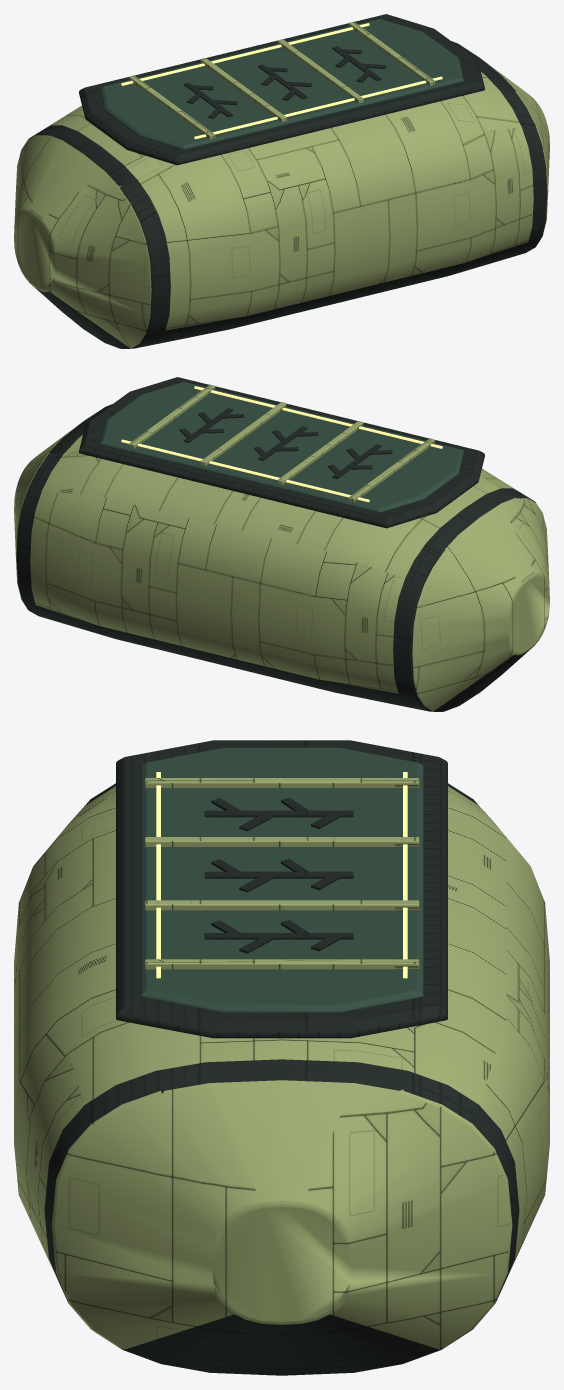
Rendered from ilex_vault.glb.
3 views of the same model, one above another, from view 1: azimuth 30°, elevation 25°; view 2: azimuth 150°, elevation 25°; view 3: azimuth 270°, elevation 25° (orthographic). The views are drawn at different scales.
Parts seen in each view (by area): view 1: LOD0_Hull, LOD0_MechanicalDark, LOD0_CANOPY, LOD0_Armor, LOD0_Lights_Warm; view 2: LOD0_Hull, LOD0_MechanicalDark, LOD0_CANOPY, LOD0_Armor, LOD0_Lights_Warm; view 3: LOD0_Hull, LOD0_CANOPY, LOD0_MechanicalDark, LOD0_Armor, LOD0_Lights_Warm.
Part boxes in pixels (x1,y1,x2,y2): LOD0_Hull: [14, 61, 549, 348]; LOD0_MechanicalDark: [28, 14, 547, 348]; LOD0_CANOPY: [100, 19, 463, 149]; LOD0_Armor: [129, 21, 434, 139]; LOD0_Lights_Warm: [121, 23, 442, 139]; LOD0_Hull: [14, 424, 549, 711]; LOD0_MechanicalDark: [16, 377, 535, 711]; LOD0_CANOPY: [100, 382, 463, 512]; LOD0_Armor: [129, 384, 434, 502]; LOD0_Lights_Warm: [121, 386, 442, 502]; LOD0_Hull: [14, 786, 549, 1349]; LOD0_CANOPY: [140, 747, 423, 1012]; LOD0_MechanicalDark: [44, 740, 519, 1375]; LOD0_Armor: [144, 778, 419, 969]; LOD0_Lights_Warm: [156, 772, 407, 978].
Size of what is drawn, in the model's own units: 9 by 3.53 by 5.
5 materials, 3 textured.
